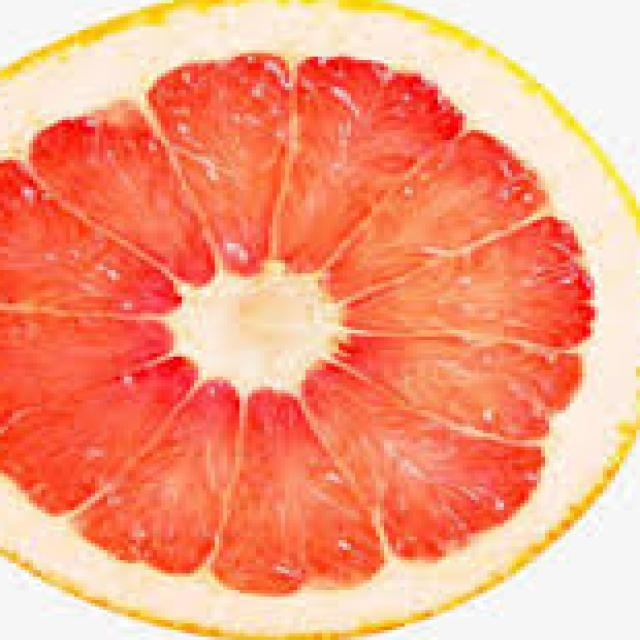inorganic: (6, 5, 636, 632)
